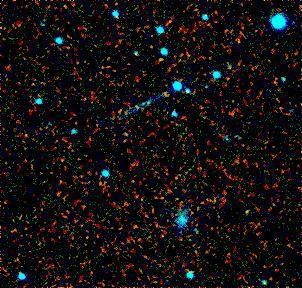star: (152, 75, 182, 105)
